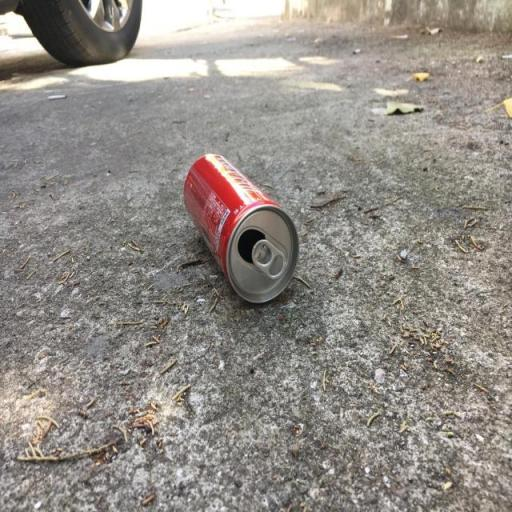metal: (181, 144, 308, 316)
